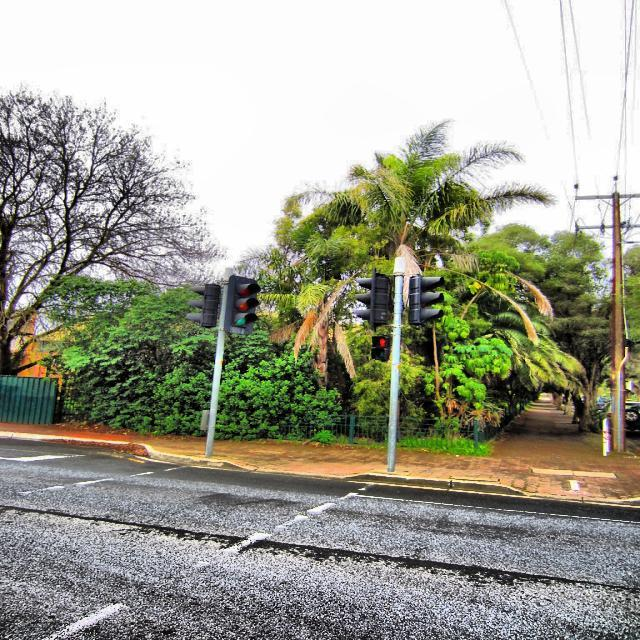red_light: (378, 338, 387, 347)
